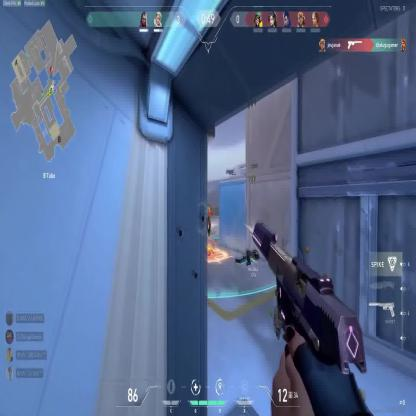enemy: (206, 206, 212, 236)
enemy_head: (208, 207, 210, 212)
